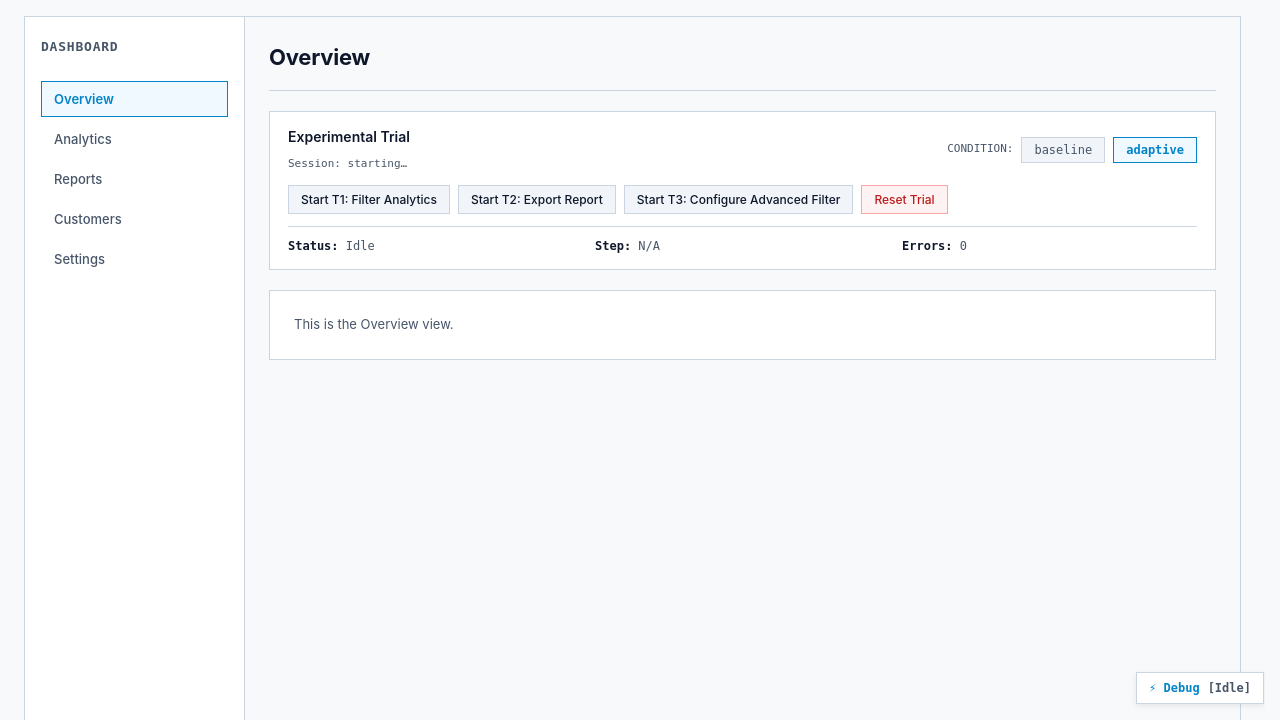
Target UI & Task State Test Suite (Task 11.1) › Application Navigation & Page Rendering › renders Overview view by default and switches views upon navigation
The width and height of the screenshot is (1280, 720).
Expected: the text "This is the Overview view." is shown, [294,316,454,332]
Click the button "Analytics" at (134, 138), box [41,120,228,156]
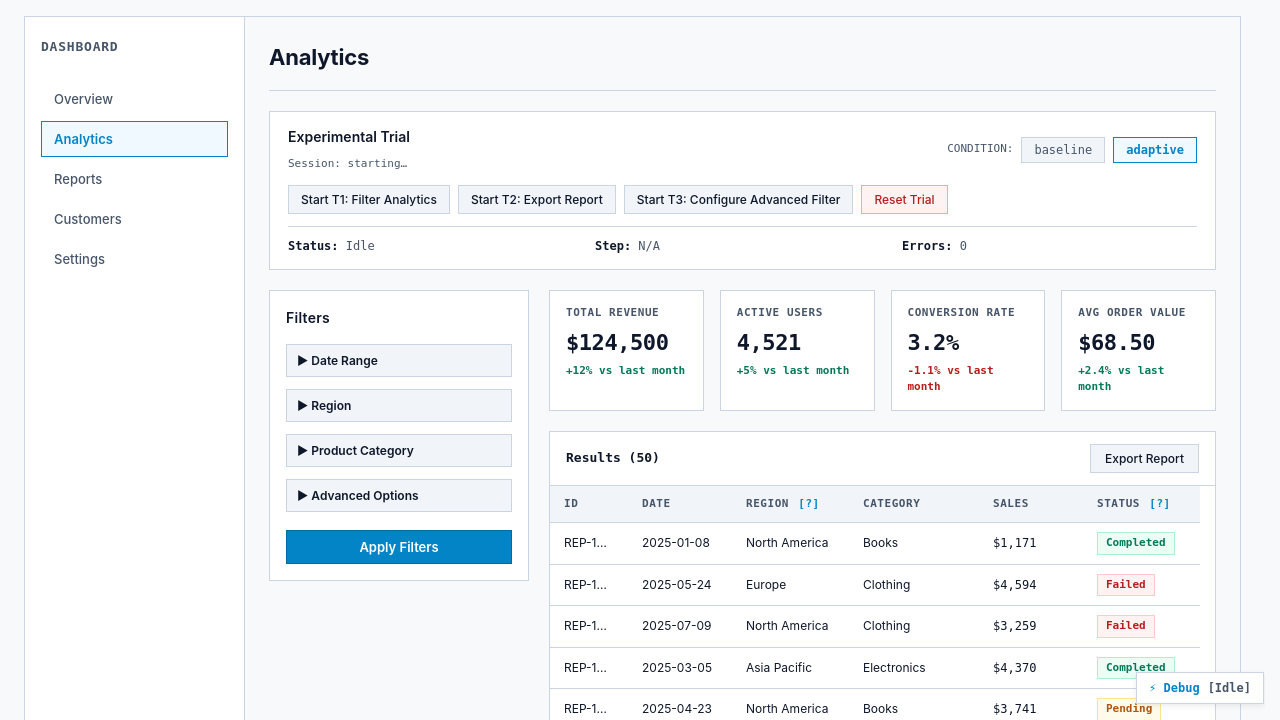
Expected: the heading "Filters" is shown, [286,309,330,326]
Expected: the heading "Results (50)" is shown, [566,448,660,468]
Expected: the text "Total Revenue" is shown, [566,306,659,319]
Click the button "Reports" at (134, 178), box [41,160,228,196]
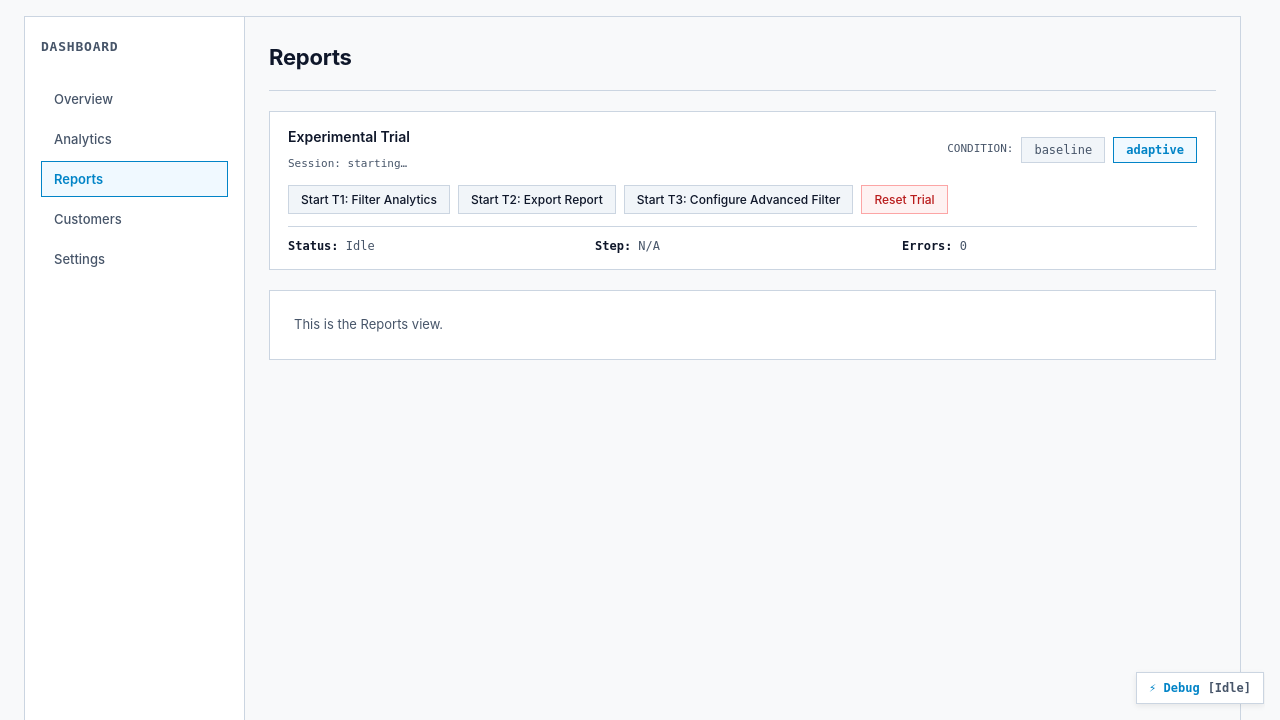
Expected: the text "This is the Reports view." is shown, [294,316,443,332]
